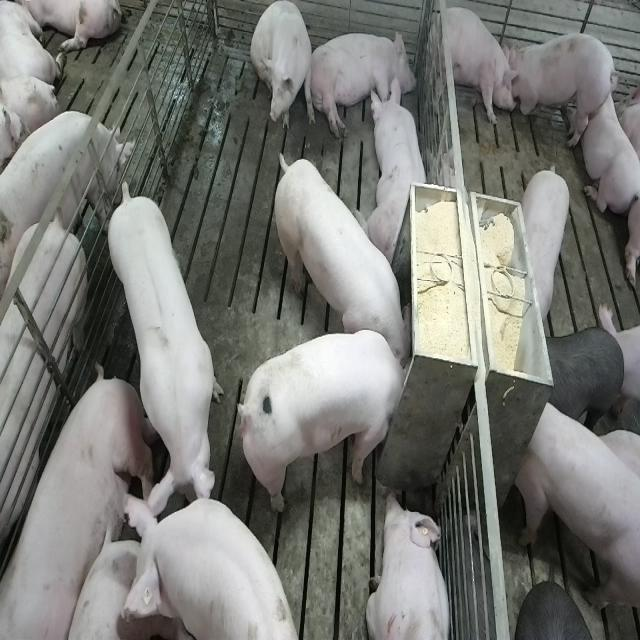Feeding: (244, 328, 418, 516), (270, 146, 411, 365)
Lateral_lying: (4, 366, 160, 640), (307, 26, 417, 140)
Sitting: (251, 1, 315, 138)
Standing: (103, 181, 220, 527), (0, 214, 89, 594), (115, 492, 297, 640), (516, 395, 638, 615), (0, 106, 130, 280), (508, 29, 614, 149), (429, 6, 514, 131), (544, 324, 624, 430), (522, 162, 573, 326)
Sternal_lying: (360, 76, 431, 262), (366, 490, 453, 640), (581, 78, 639, 216)
